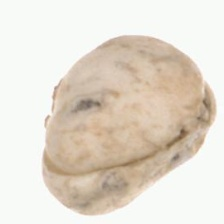L2: (41, 34, 217, 217)
